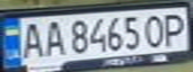4: (87, 16, 109, 53)
5: (121, 12, 145, 51)
6: (106, 15, 127, 52)
8: (66, 17, 90, 54)
A: (15, 20, 48, 60), (39, 18, 69, 57)
O: (139, 11, 169, 48)
P: (157, 10, 190, 47)
